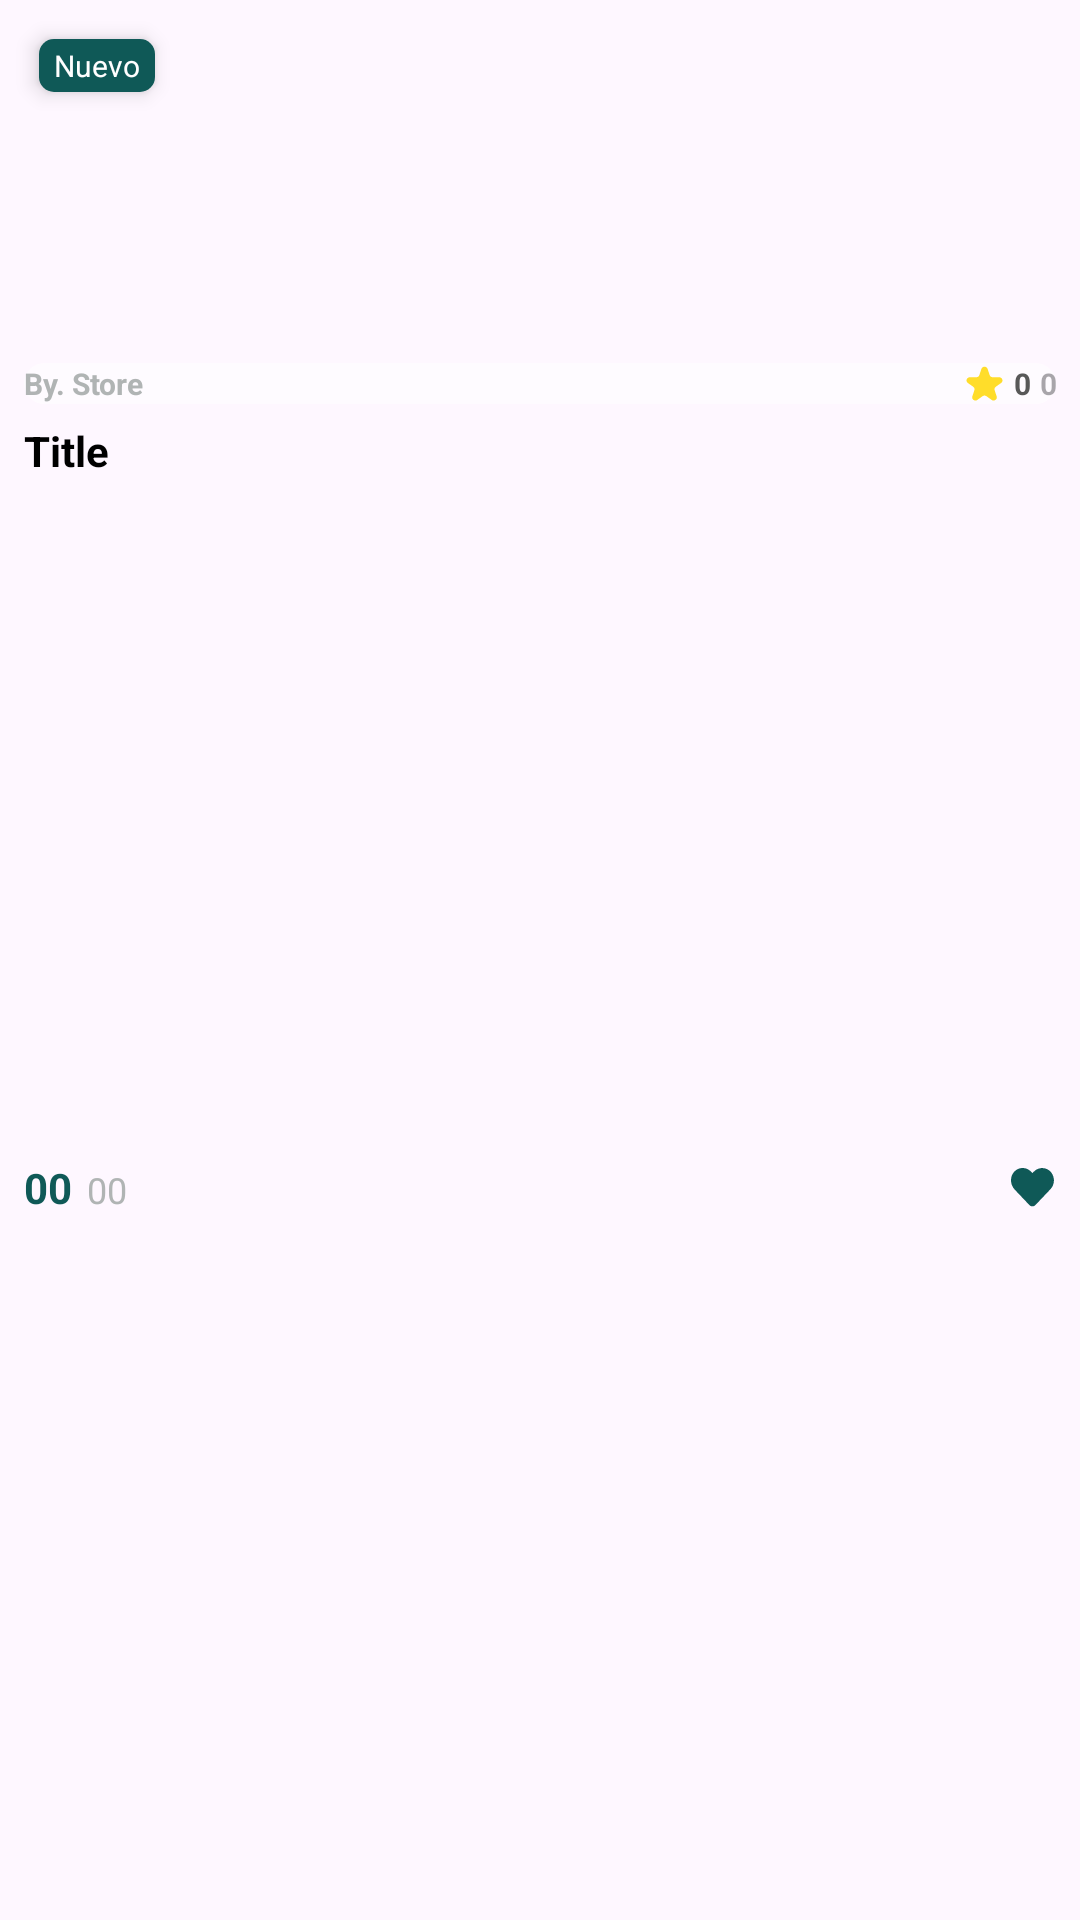

Named icons in this screenshot (1080×1920) and their bounding boxes, {"x1": x1, "y1": y1, "x2": x2, "y2": y2}:
favoriteactive: {"x1": 1011, "y1": 1168, "x2": 1054, "y2": 1207}
star: {"x1": 966, "y1": 366, "x2": 1003, "y2": 401}
